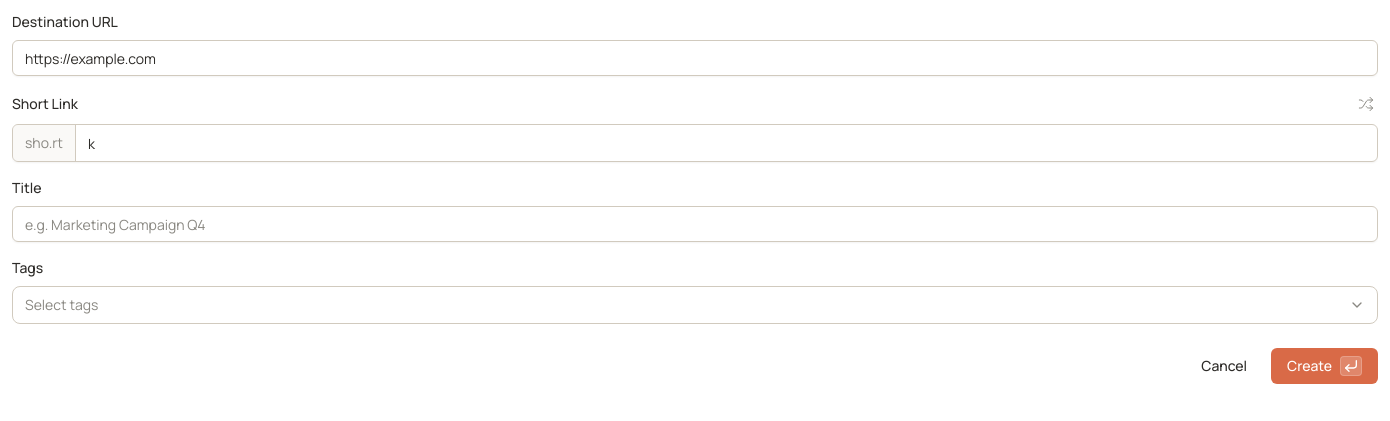
Test: LinkFormFields › submission › shows the conflict message under the key and re-enables the form when the key is taken
Click the button "Create": x=1325, y=366 [1271,348,1378,384]
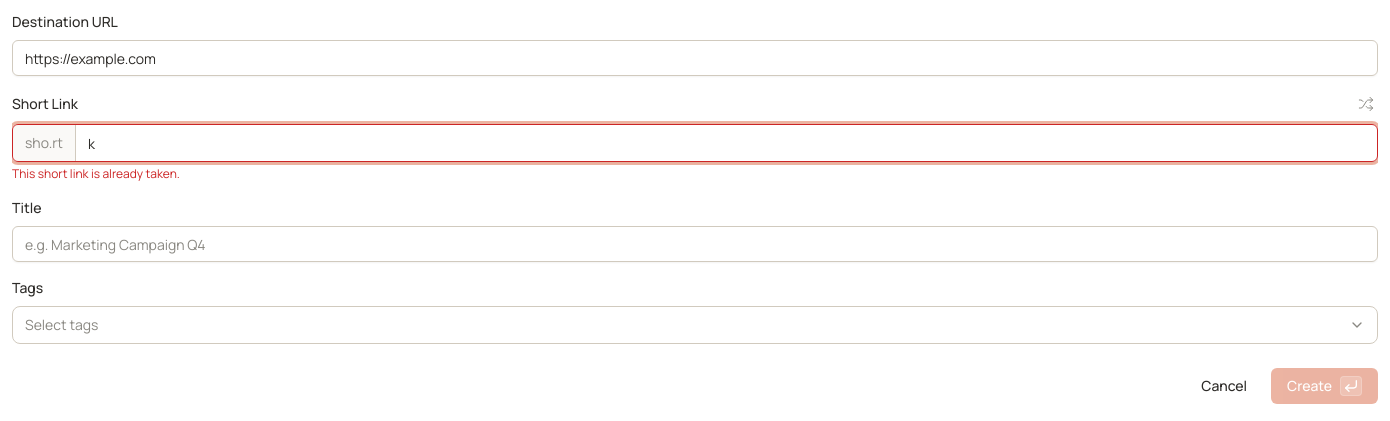
Expected: the button "Cancel" is enabled, [1185,368,1263,404]
Now the text "This short link is already taken." is shown, box [12,165,180,182]
